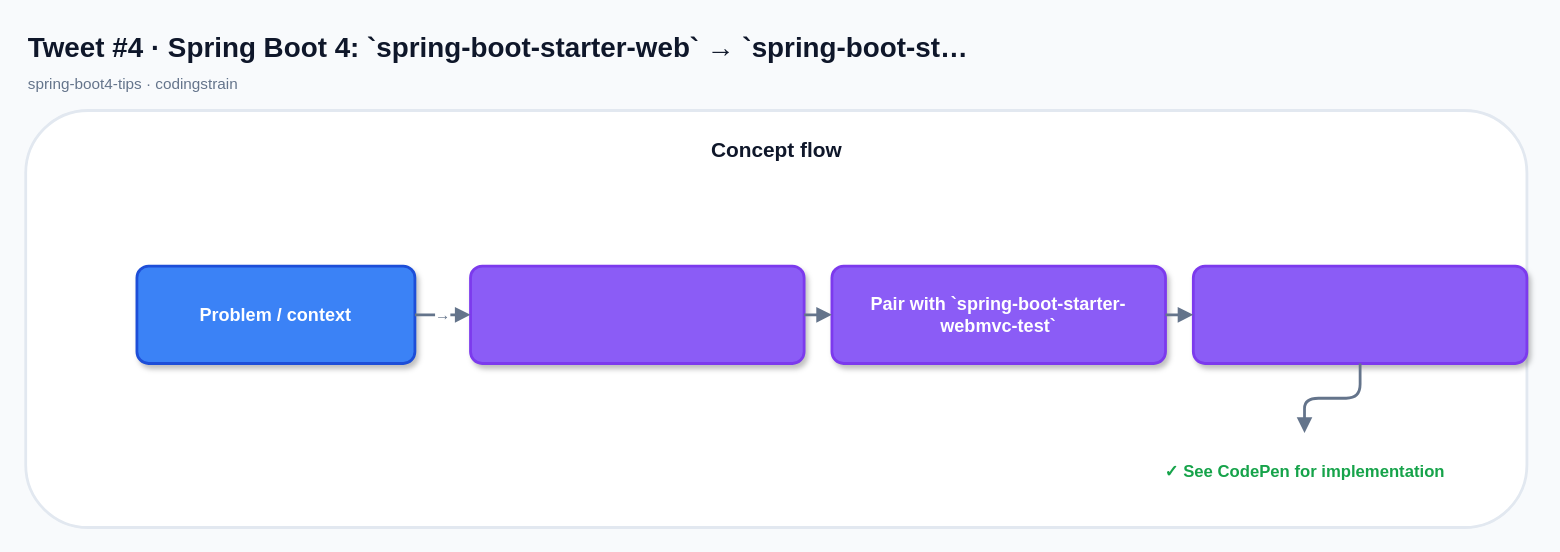
This 1560x552 diagram has some shape labels left out. Each missing label, with the centre of its shape:
"Name matches the stack (MVC vs WebFlux)" belongs at [638,316].
"Update BOM / parent to 4.x first" belongs at [1361,316].
